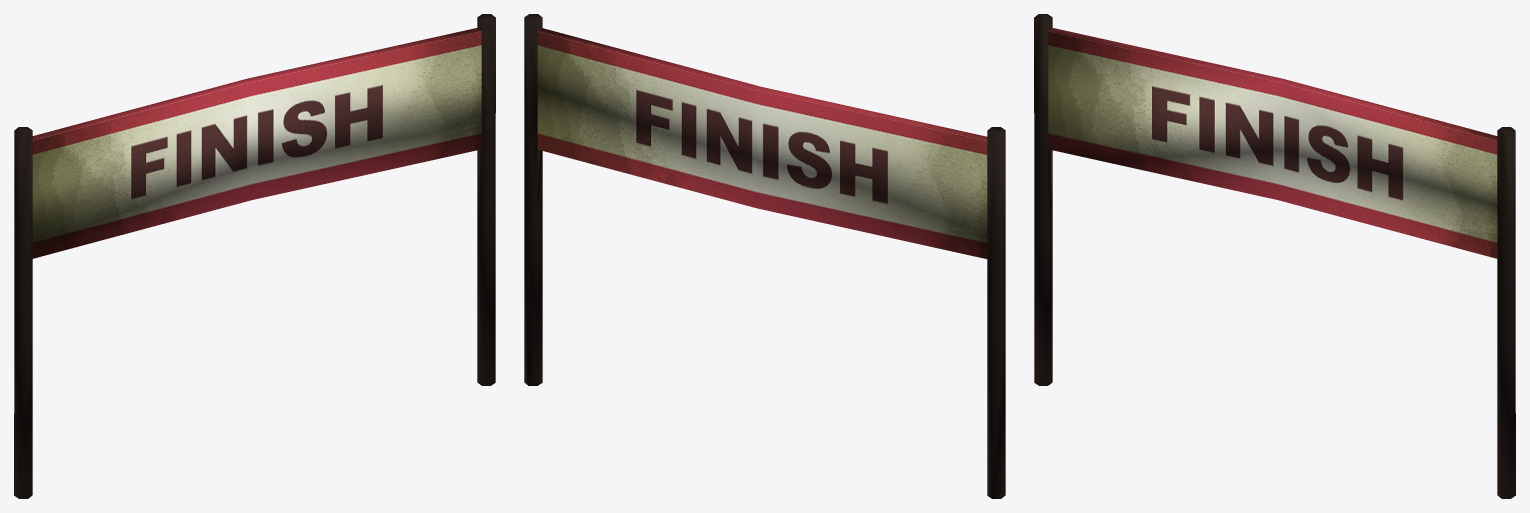
The model's file is GoalPoint.fbx.
3 renders of one model, left to right at view 1: azimuth 30°, elevation 25°; view 2: azimuth 150°, elevation 25°; view 3: azimuth 330°, elevation 25°, orthographic.
Visible parts, largest first — view 1: Cube.001; view 2: Cube.001; view 3: Cube.001.
Part boxes in pixels (box(x1,y1,x2,y2)): Cube.001: box(14, 14, 495, 498); Cube.001: box(524, 14, 1005, 498); Cube.001: box(1034, 14, 1515, 498).
Size of the model in its own units: 983 by 718 by 44.78.
Materials: 1 (1 with a texture image).
